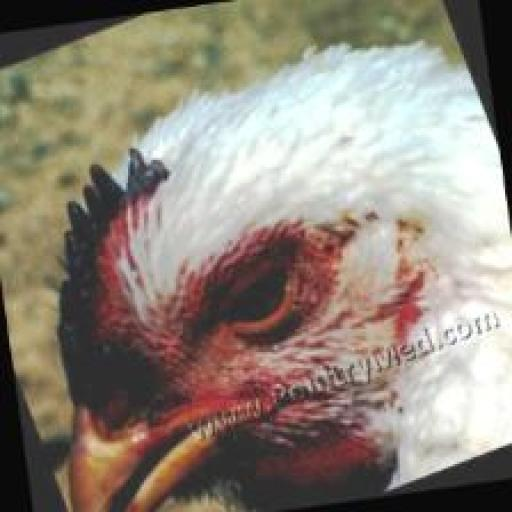disease: (40, 137, 168, 315), (148, 239, 324, 353)
